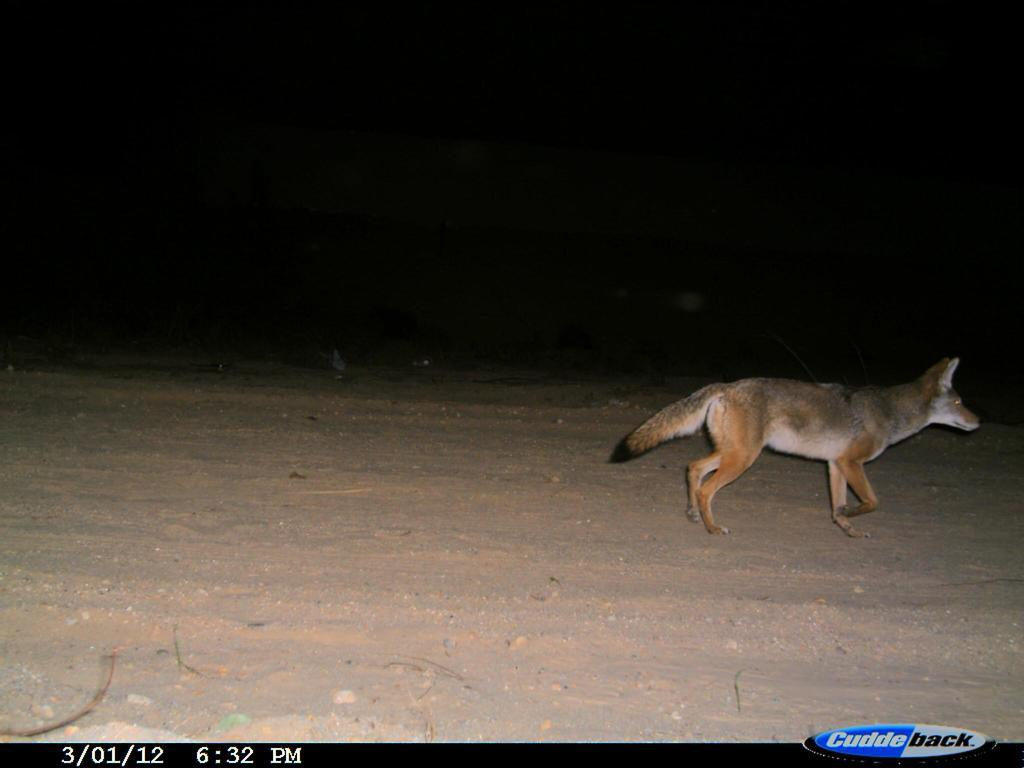coyote: (602, 349, 984, 548)
